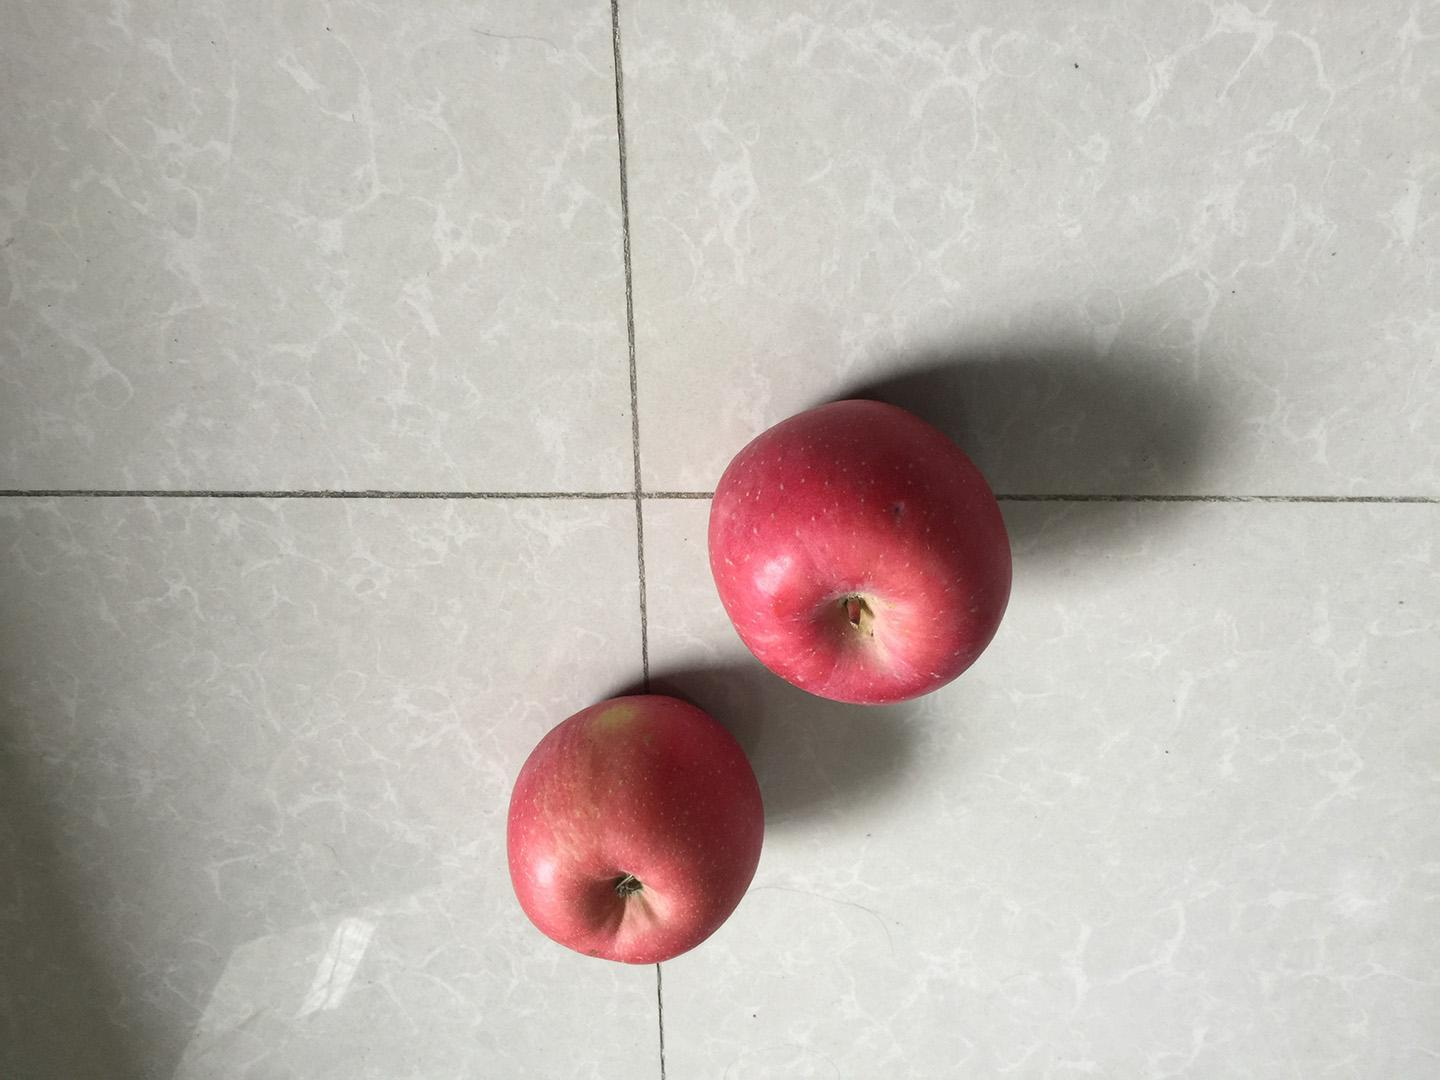apple: (703, 396, 1018, 711), (500, 684, 769, 970)
